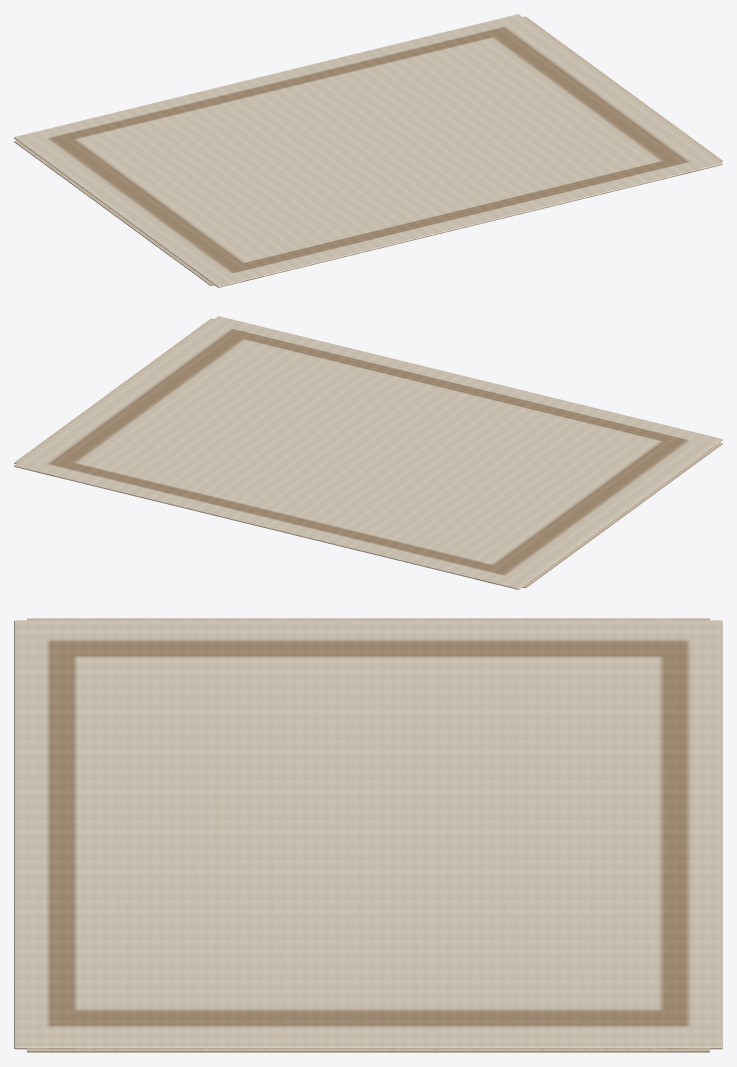
Rendered from floor_rug_textured.glb.
3 renders of one model, top to bottom at view 1: azimuth 30°, elevation 25°; view 2: azimuth 150°, elevation 25°; view 3: azimuth 270°, elevation 25°, orthographic. The views are drawn at different scales.
Parts seen in each view (by area): view 1: floor_rug_textured_rugWoven, floor_rug_textured_fabricLinen; view 2: floor_rug_textured_rugWoven, floor_rug_textured_fabricLinen; view 3: floor_rug_textured_rugWoven, floor_rug_textured_fabricLinen.
Part boxes in pixels (x1,y1,x2,y2): floor_rug_textured_rugWoven: (14,14,722,287); floor_rug_textured_fabricLinen: (14,16,722,286); floor_rug_textured_rugWoven: (14,316,722,589); floor_rug_textured_fabricLinen: (14,318,722,588); floor_rug_textured_rugWoven: (14,620,722,1049); floor_rug_textured_fabricLinen: (27,618,709,1052).
Size of what is drawn, in the model's own units: 2.6 by 0.008 by 1.8.
2 materials, 2 textured.
